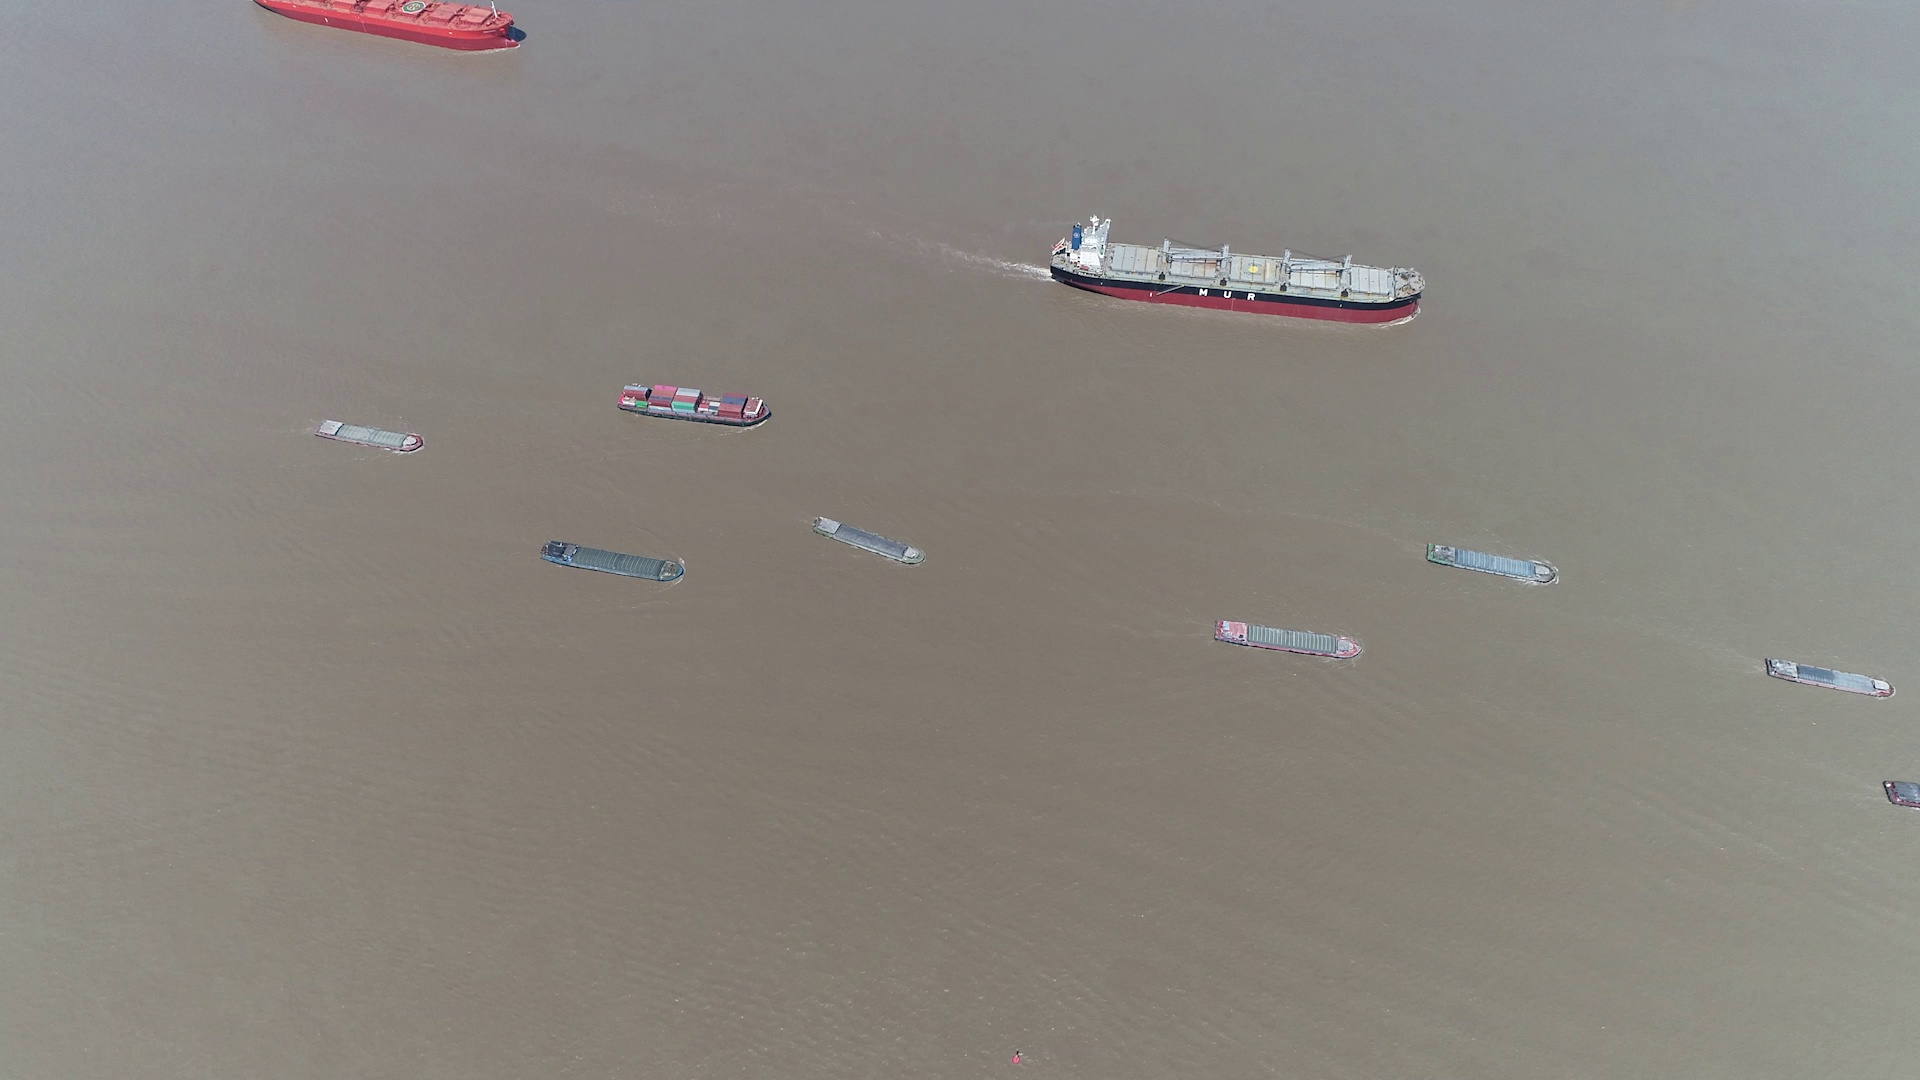ship: (1052, 220, 1425, 320), (256, 0, 526, 54), (618, 384, 771, 429), (539, 541, 688, 584), (1424, 541, 1561, 584), (1216, 618, 1360, 659), (1762, 658, 1898, 700), (812, 518, 923, 567), (316, 418, 425, 452), (1884, 779, 1920, 808)
